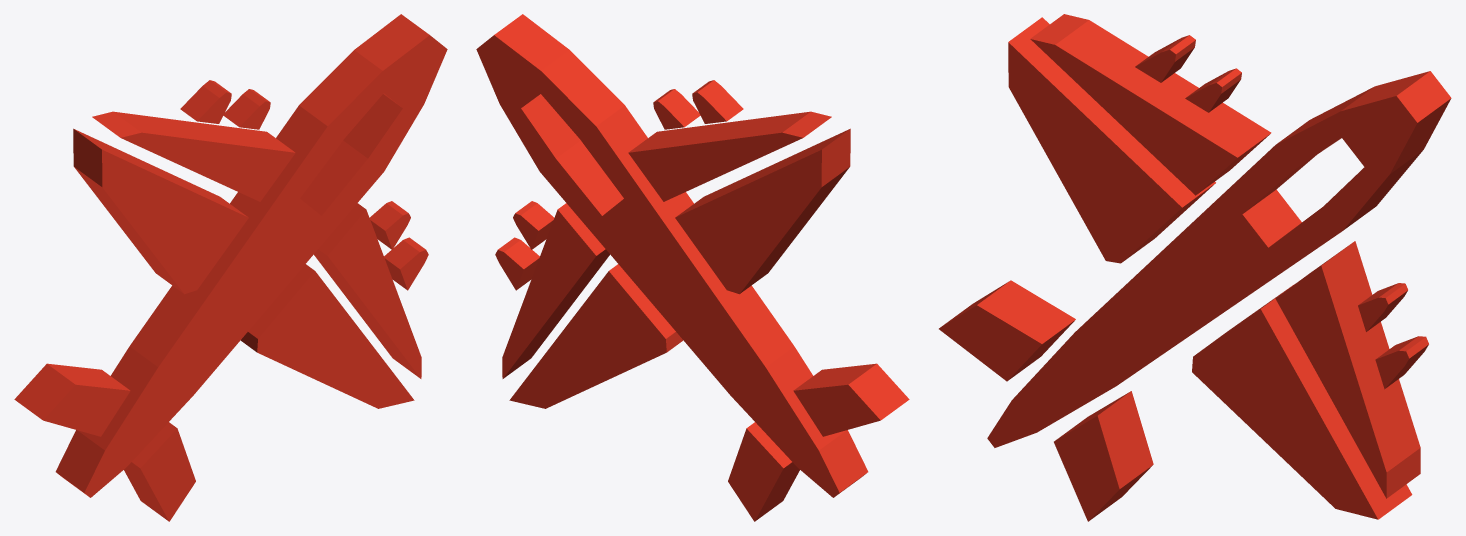
The model's file is Icon_Plane_04.fbx.
3 renders of one model, left to right at view 1: azimuth 30°, elevation 25°; view 2: azimuth 150°, elevation 25°; view 3: azimuth 330°, elevation 25°, orthographic. The views are drawn at different scales.
Parts seen in each view (by area): view 1: Icon_Plane_04; view 2: Icon_Plane_04; view 3: Icon_Plane_04.
Boxes of the visible parts, <box> form: Icon_Plane_04: <box>14,14,447,521</box>; Icon_Plane_04: <box>476,14,909,521</box>; Icon_Plane_04: <box>939,14,1451,521</box>.
Bounding box in the file's own units: 71.82 × 71.82 × 8.85.
